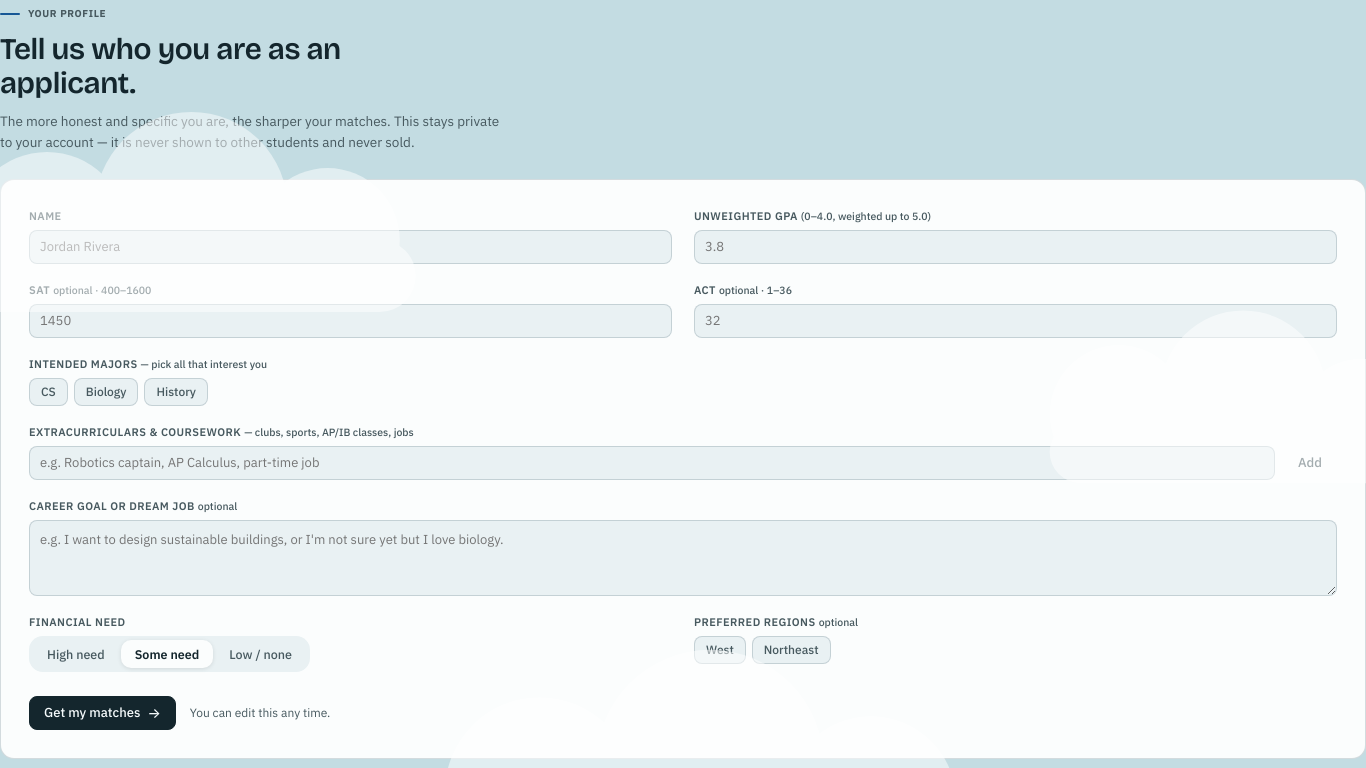
Scenario: validation › names every missing field at once rather than one at a time
Click the button "Get my matches →".
click(102, 713)  # box [29, 696, 176, 730]
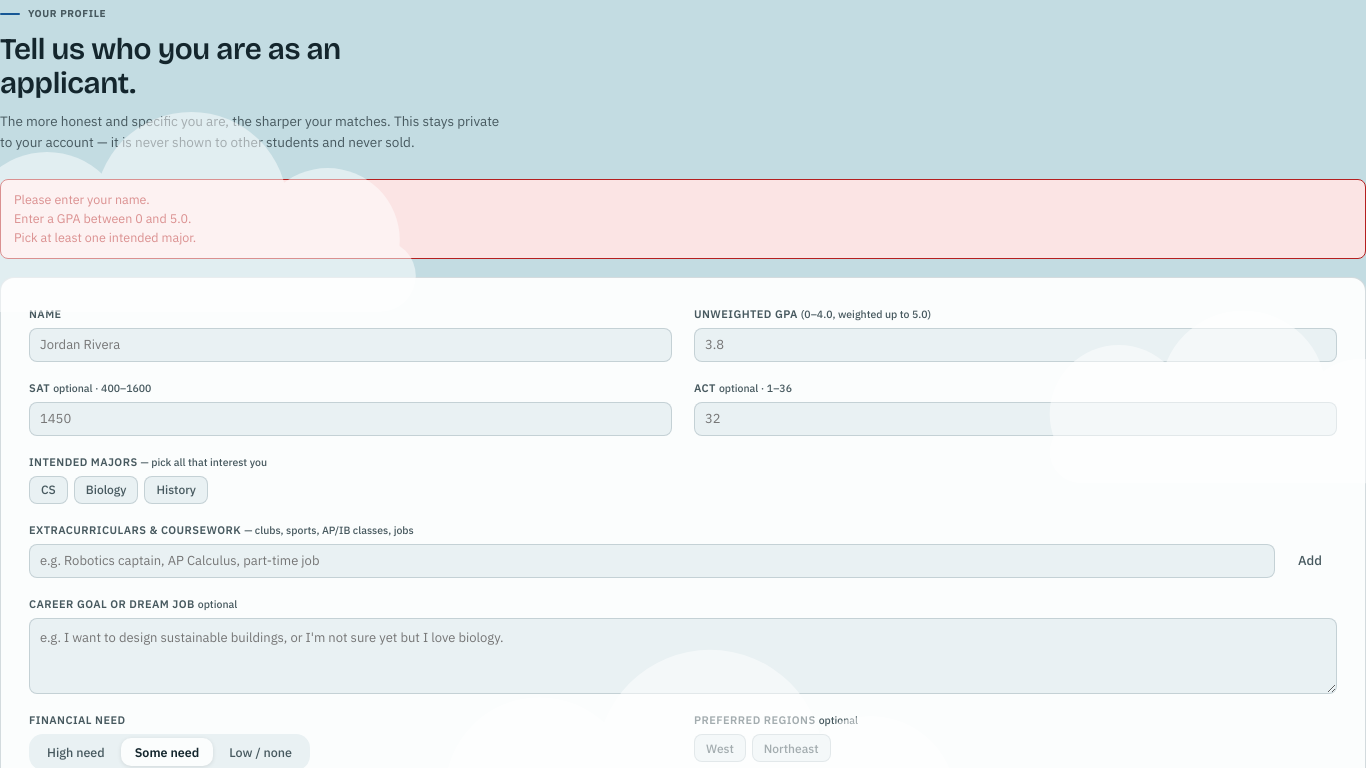
Result: the message shows "Please enter your name." at [14, 191, 150, 207]
Result: the message shows "Enter a GPA between 0 and 5.0." at [14, 210, 192, 226]
Result: the message shows "Pick at least one intended major." at [14, 229, 196, 245]
